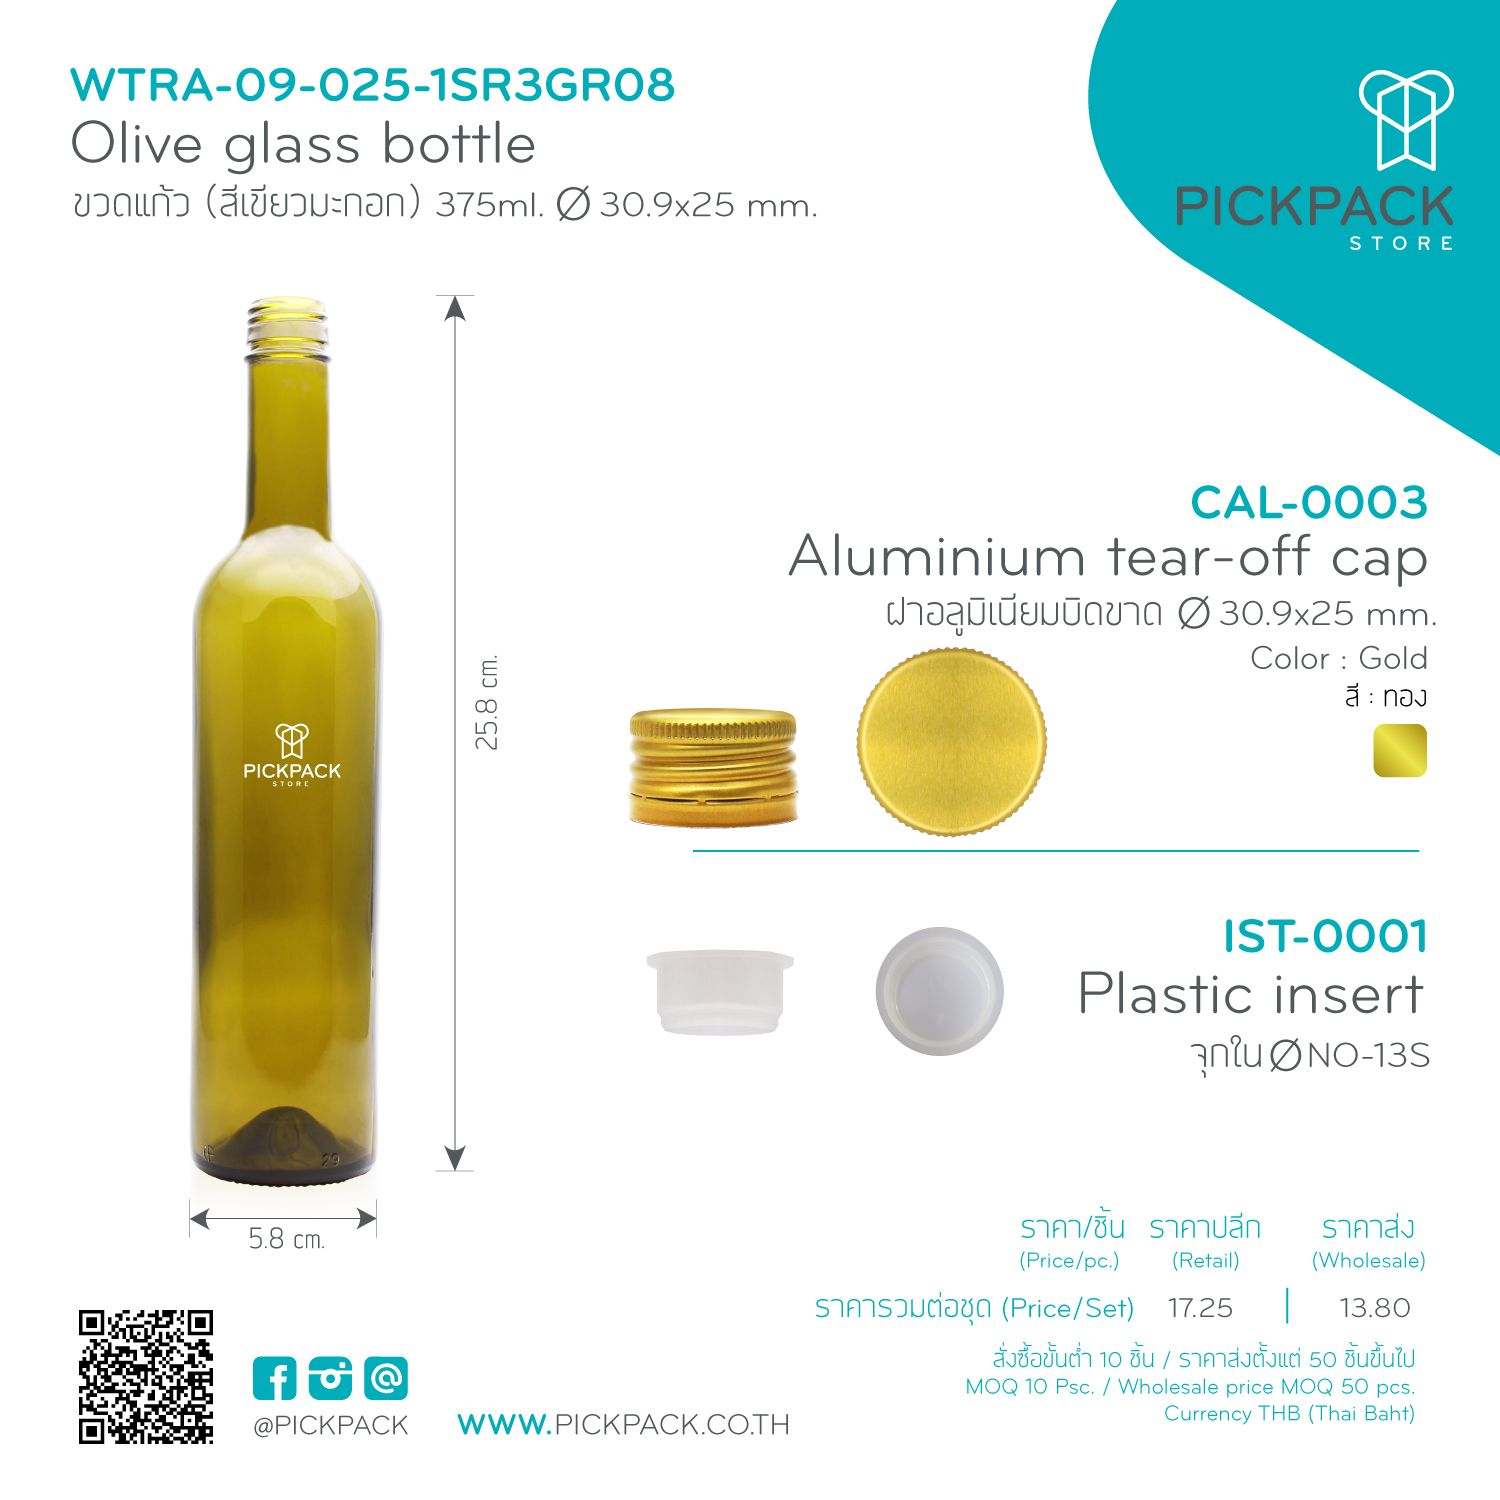glass_bottle: (177, 286, 393, 1198)
